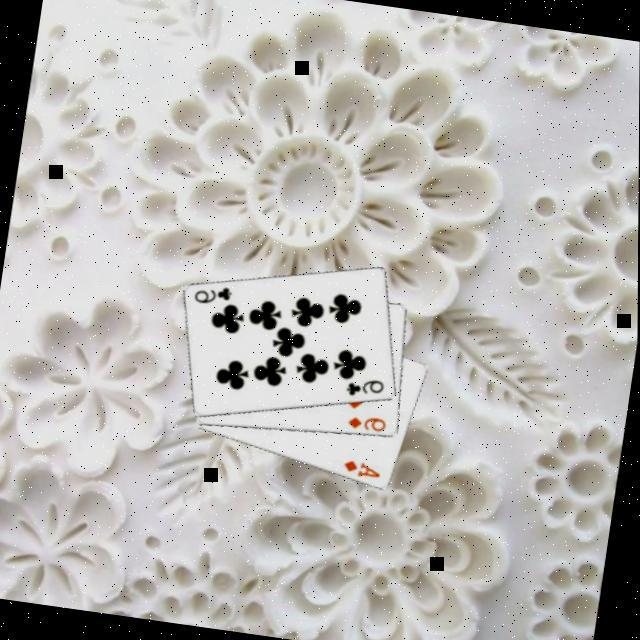9C: (189, 279, 235, 310), (341, 372, 387, 402)
9D: (342, 410, 388, 434)
AD: (339, 456, 384, 482)
